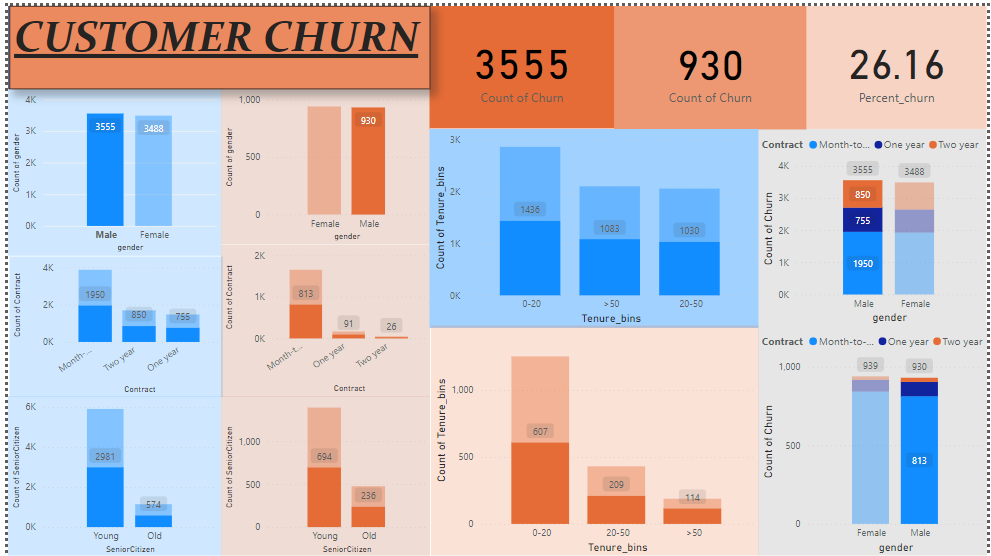

What the dashboard file says about the page in this screenshot:
{"tool":"powerbi","page":{"name":"Final ","canvas":[1280,720],"ordinal":0},"visuals":[{"type":"columnChart","fields":{"Y":["CountNonNull(Telco-Customer-Churn.gender)"],"Category":["Telco-Customer-Churn.gender"]},"box":[0,108.3,278.3,218.3],"z":0},{"type":"columnChart","fields":{"Category":["Telco-Customer-Churn.Contract"],"Y":["CountNonNull(Telco-Customer-Churn.Contract)"]},"box":[1.7,326.7,278.3,183.3],"z":1000},{"type":"columnChart","fields":{"Category":["Telco-Customer-Churn.SeniorCitizen"],"Y":["CountNonNull(Telco-Customer-Churn.SeniorCitizen)"]},"box":[0,510,278.3,210],"z":2000},{"type":"columnChart","fields":{"Y":["CountNonNull(Telco-Customer-Churn.gender)"],"Category":["Telco-Customer-Churn.gender"]},"box":[278.3,108.3,273.3,203.3],"z":3000},{"type":"columnChart","fields":{"Category":["Telco-Customer-Churn.Contract"],"Y":["CountNonNull(Telco-Customer-Churn.Contract)"]},"box":[278.3,311.7,273.3,198.3],"z":4000},{"type":"columnChart","fields":{"Category":["Telco-Customer-Churn.SeniorCitizen"],"Y":["CountNonNull(Telco-Customer-Churn.SeniorCitizen)"]},"box":[278.3,510,273.3,210],"z":5000},{"type":"columnChart","fields":{"Category":["Telco-Customer-Churn.gender"],"Series":["Telco-Customer-Churn.Contract"],"Y":["CountNonNull(Telco-Customer-Churn.Churn)"]},"box":[980.8,160.6,298.6,258.9],"z":6000},{"type":"columnChart","fields":{"Category":["Telco-Customer-Churn.gender"],"Series":["Telco-Customer-Churn.Contract"],"Y":["CountNonNull(Telco-Customer-Churn.Churn)"]},"box":[980,418,300,302],"z":7000},{"type":"card","fields":{"Values":["CountNonNull(Telco-Customer-Churn.Churn)"]},"box":[551.1,0,241.1,160],"z":8000},{"type":"card","fields":{"Values":["CountNonNull(Telco-Customer-Churn.Churn)"]},"box":[792.2,0,251.1,161.1],"z":9000},{"type":"card","fields":{"Values":["Telco-Customer-Churn.Percent_churn"]},"box":[1043.2,0,236.2,160.6],"z":10000},{"type":"columnChart","fields":{"Category":["Telco-Customer-Churn.Tenure_bins"],"Y":["CountNonNull(Telco-Customer-Churn.Tenure_bins)"]},"box":[551.1,160,430,260],"z":11000},{"type":"columnChart","fields":{"Y":["CountNonNull(Telco-Customer-Churn.Tenure_bins)"],"Category":["Telco-Customer-Churn.Tenure_bins"]},"box":[552,418,428,302],"z":12000},{"type":"shape","box":[0,0,551.7,108.3],"z":13000},{"type":"textbox","box":[1.7,0,550,108.3],"z":14000}]}

Visuals, with their boxes in screenshot pixels (x1, y1, x2, y2), scaled from the page's 1280x720 canvas onto the 991x556 screenshot:
columnChart - CountNonNull(Telco-Customer-Churn.gender) x Telco-Customer-Churn.gender: 0:84:215:252
columnChart - Telco-Customer-Churn.Contract x CountNonNull(Telco-Customer-Churn.Contract): 1:252:217:394
columnChart - Telco-Customer-Churn.SeniorCitizen x CountNonNull(Telco-Customer-Churn.SeniorCitizen): 0:394:215:555
columnChart - CountNonNull(Telco-Customer-Churn.gender) x Telco-Customer-Churn.gender: 215:84:427:241
columnChart - Telco-Customer-Churn.Contract x CountNonNull(Telco-Customer-Churn.Contract): 215:241:427:394
columnChart - Telco-Customer-Churn.SeniorCitizen x CountNonNull(Telco-Customer-Churn.SeniorCitizen): 215:394:427:555
columnChart - Telco-Customer-Churn.gender x Telco-Customer-Churn.Contract: 759:124:990:324
columnChart - Telco-Customer-Churn.gender x Telco-Customer-Churn.Contract: 759:323:990:555
card - CountNonNull(Telco-Customer-Churn.Churn): 427:0:613:124
card - CountNonNull(Telco-Customer-Churn.Churn): 613:0:808:124
card - Telco-Customer-Churn.Percent_churn: 808:0:990:124
columnChart - Telco-Customer-Churn.Tenure_bins x CountNonNull(Telco-Customer-Churn.Tenure_bins): 427:124:760:324
columnChart - CountNonNull(Telco-Customer-Churn.Tenure_bins) x Telco-Customer-Churn.Tenure_bins: 427:323:759:555
shape: 0:0:427:84
textbox: 1:0:427:84
